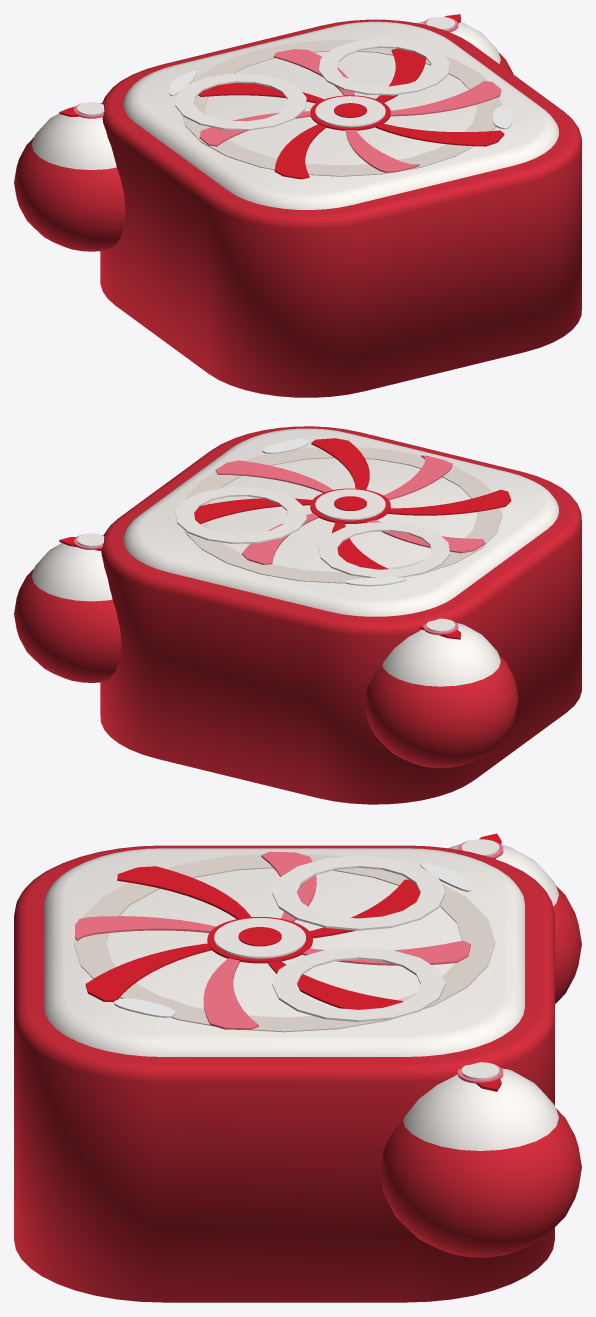
Rendered from body_estampa_pirulito.fbx.
The picture shows the model from 3 angles, top to bottom: view 1: azimuth 30°, elevation 25°; view 2: azimuth 150°, elevation 25°; view 3: azimuth 270°, elevation 25°; orthographic projection. The views are drawn at different scales.
Parts seen in each view (by area): view 1: body_estampa_pirulito_corpo, body_estampa_pirulito_mao_esq, body_estampa_pirulito_mao; view 2: body_estampa_pirulito_corpo, body_estampa_pirulito_mao_esq, body_estampa_pirulito_mao; view 3: body_estampa_pirulito_corpo, body_estampa_pirulito_mao, body_estampa_pirulito_mao_esq.
Part boxes in pixels (bbox=[...]): body_estampa_pirulito_corpo: bbox=[100, 19, 581, 397]; body_estampa_pirulito_mao_esq: bbox=[14, 102, 125, 251]; body_estampa_pirulito_mao: bbox=[417, 14, 513, 74]; body_estampa_pirulito_corpo: bbox=[100, 426, 581, 804]; body_estampa_pirulito_mao_esq: bbox=[364, 618, 518, 768]; body_estampa_pirulito_mao: bbox=[14, 533, 121, 682]; body_estampa_pirulito_corpo: bbox=[14, 845, 554, 1302]; body_estampa_pirulito_mao: bbox=[380, 1062, 581, 1257]; body_estampa_pirulito_mao_esq: bbox=[448, 833, 581, 1003].
Size of the model in its own units: 5.4 by 2.06 by 4.2.
Materials: 1 (1 with a texture image).
